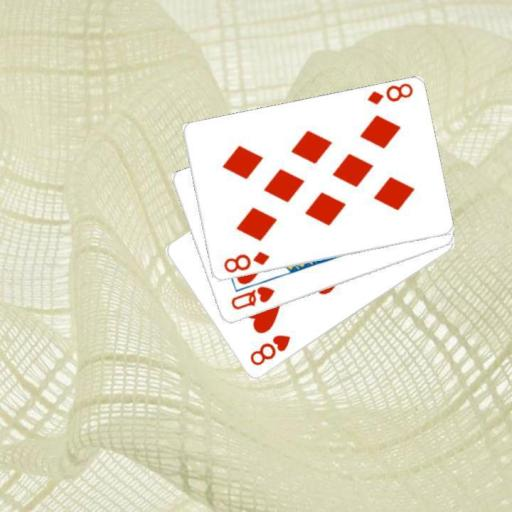card-corner: (246, 331, 292, 368), (227, 283, 276, 312), (364, 80, 414, 107), (220, 249, 271, 274)
